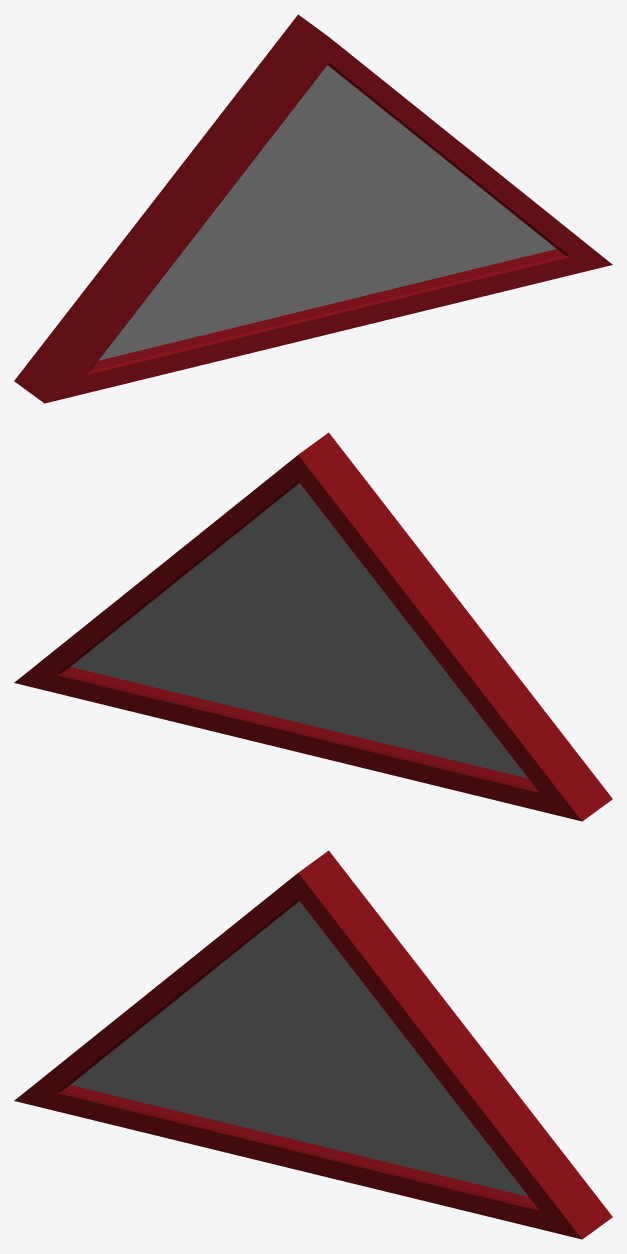
Rendered from SM_MH_01_Wood_01_Wall_Roof_Top_01.fbx.
3 views of the same model, one above another, from view 1: azimuth 30°, elevation 25°; view 2: azimuth 150°, elevation 25°; view 3: azimuth 330°, elevation 25° (orthographic).
Parts seen in each view (by area): view 1: SM_MH_01_Wood_01_Wall_Roof_Top_01_LOD0; view 2: SM_MH_01_Wood_01_Wall_Roof_Top_01_LOD0; view 3: SM_MH_01_Wood_01_Wall_Roof_Top_01_LOD0.
Boxes of the visible parts, bbox=[...] form: SM_MH_01_Wood_01_Wall_Roof_Top_01_LOD0: bbox=[14, 14, 612, 403]; SM_MH_01_Wood_01_Wall_Roof_Top_01_LOD0: bbox=[14, 432, 612, 821]; SM_MH_01_Wood_01_Wall_Roof_Top_01_LOD0: bbox=[14, 850, 612, 1239].
Size of what is drawn, in the model's own units: 300 by 150 by 28.
